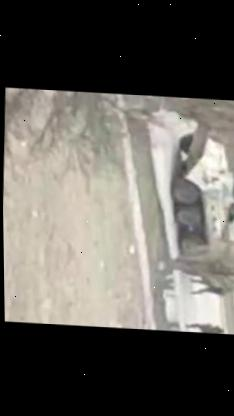person: (185, 277, 234, 301), (187, 318, 227, 333)
tank: (161, 120, 234, 279)
